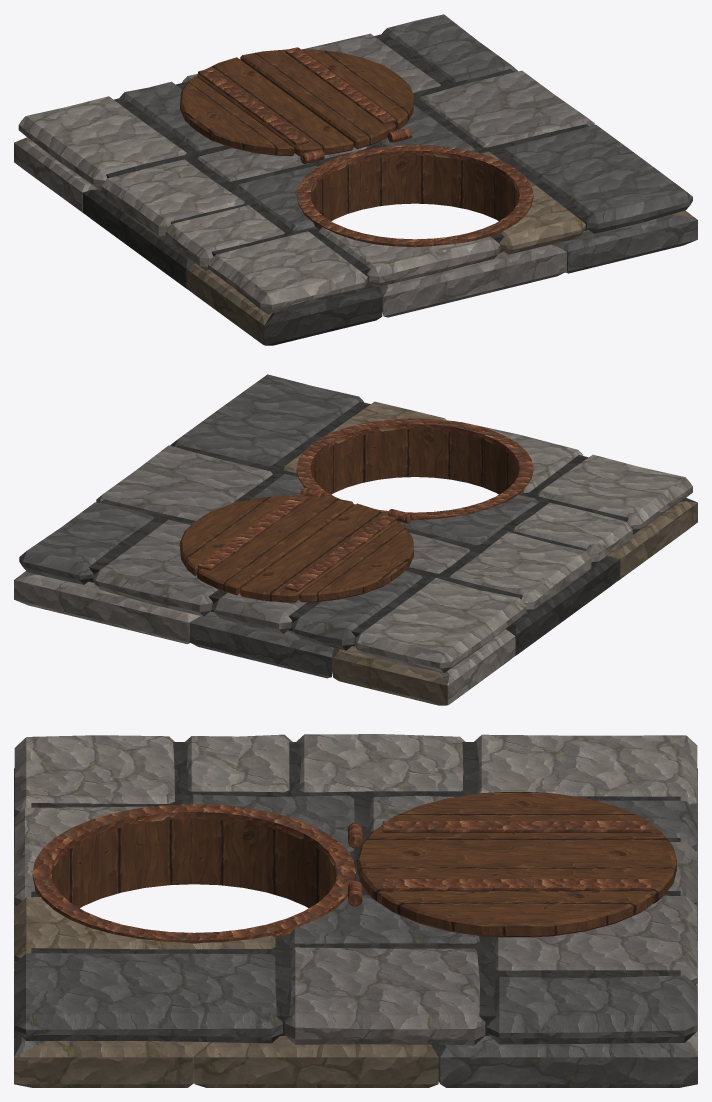
File: floor_hatch__cut_stone.glb
3 views of the same model, one above another, from view 1: azimuth 30°, elevation 25°; view 2: azimuth 150°, elevation 25°; view 3: azimuth 270°, elevation 25° (orthographic). The views are drawn at different scales.
Parts seen in each view (by area): view 1: model; view 2: model; view 3: model.
Boxes of the visible parts, left/top/right/bottom form: model: left=14, top=14, right=697, bottom=345; model: left=14, top=374, right=697, bottom=705; model: left=14, top=734, right=697, bottom=1087.
Size of the model in its own units: 1.99 by 0.297 by 1.99.
8 materials, 8 textured.
